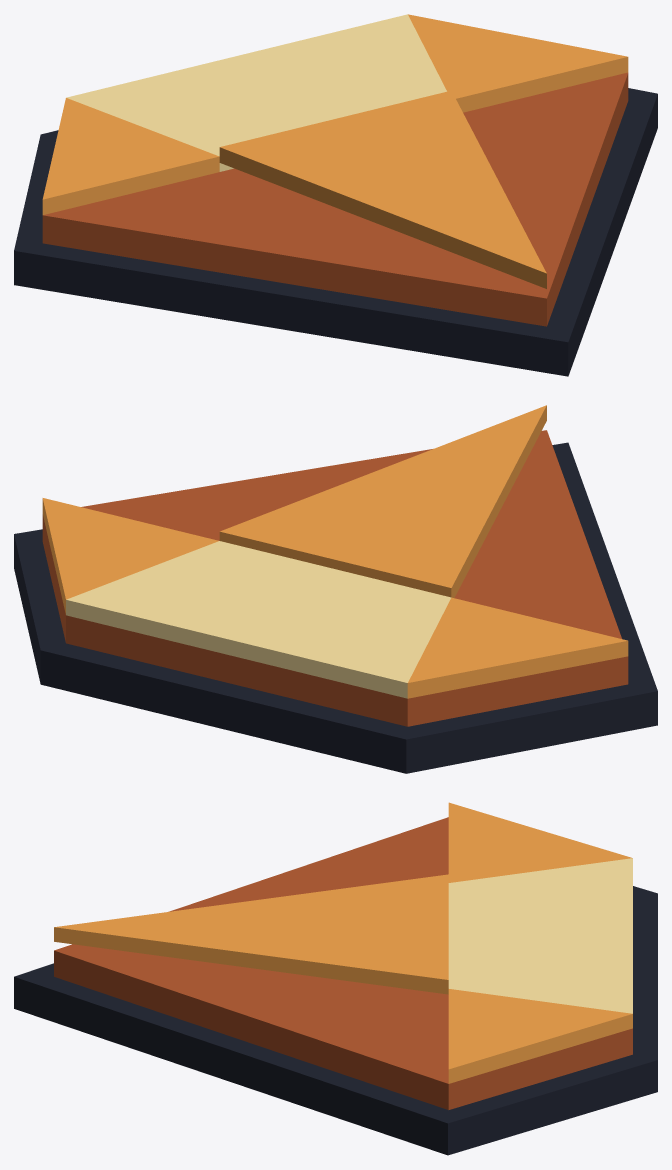
File: orange_gem.fbx
3 renders of one model, top to bottom at view 1: azimuth 30°, elevation 25°; view 2: azimuth 150°, elevation 25°; view 3: azimuth 270°, elevation 25°, orthographic. The views are drawn at different scales.
Parts seen in each view (by area): view 1: orange_gem; view 2: orange_gem; view 3: orange_gem.
Part boxes in pixels (x1=…): orange_gem: x1=14, y1=14, x2=657, y2=376; orange_gem: x1=14, y1=405, x2=657, y2=773; orange_gem: x1=14, y1=802, x2=657, y2=1155.
Bounding box in the file's own units: 1.08 × 0.14 × 1.
Materials: 1 (1 with a texture image).
